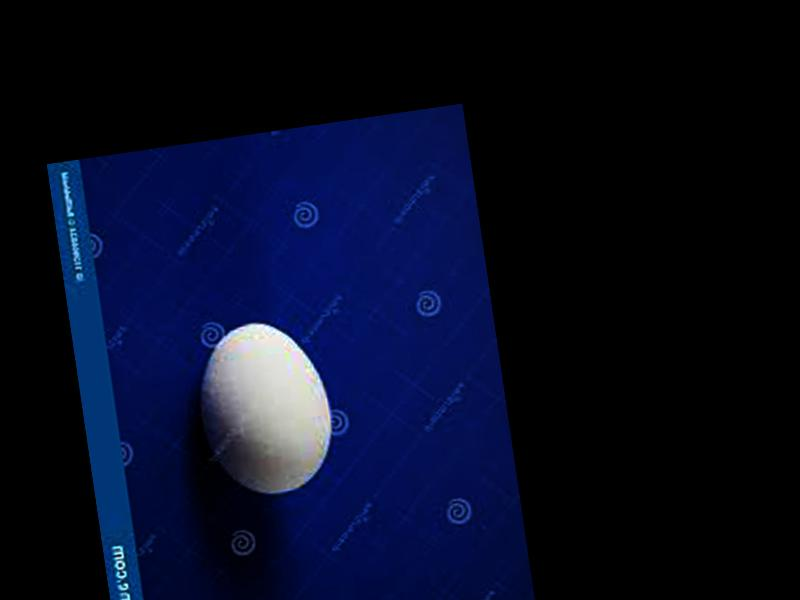Eggs: (188, 313, 339, 503)
